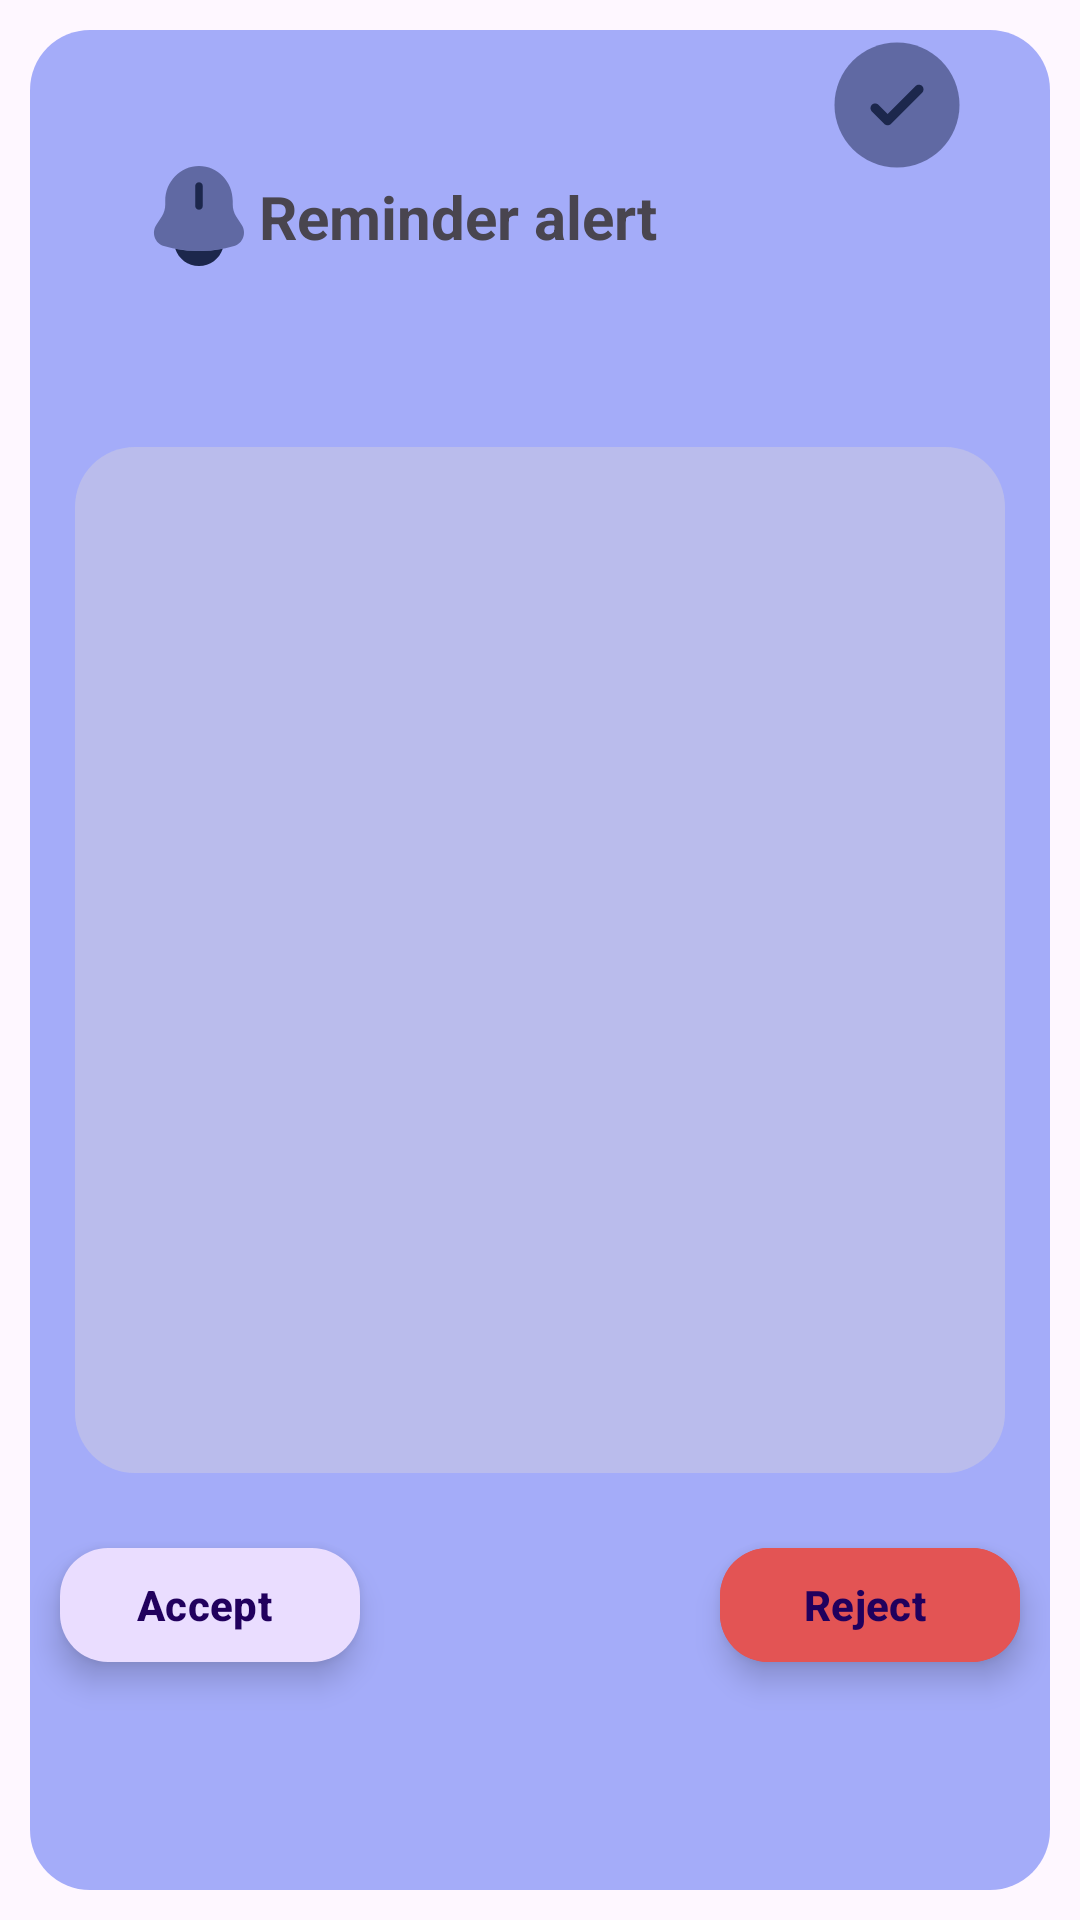

Locate icon controls on the screen. Image size 1080px x 1920px, boxes as (x1, y1, x2, y2).
bell bing: (154, 166, 244, 266)
check circle: (834, 42, 960, 168)
